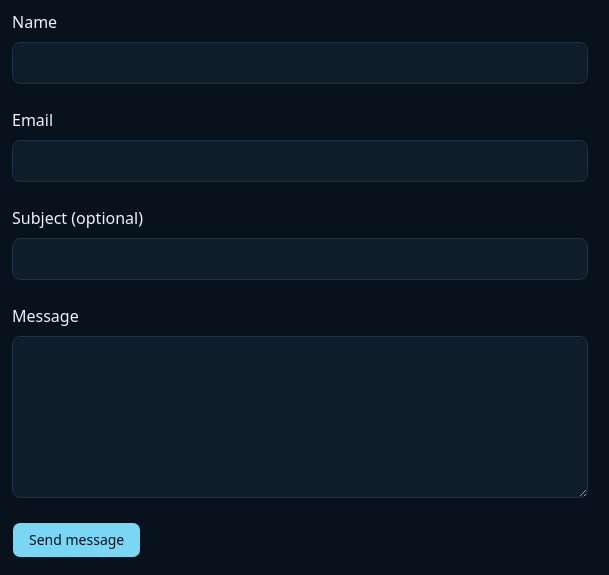
Scenario: ContactForm › blocks an incomplete submission
Click the button "Send message" at (77, 540), box [12, 522, 141, 558]
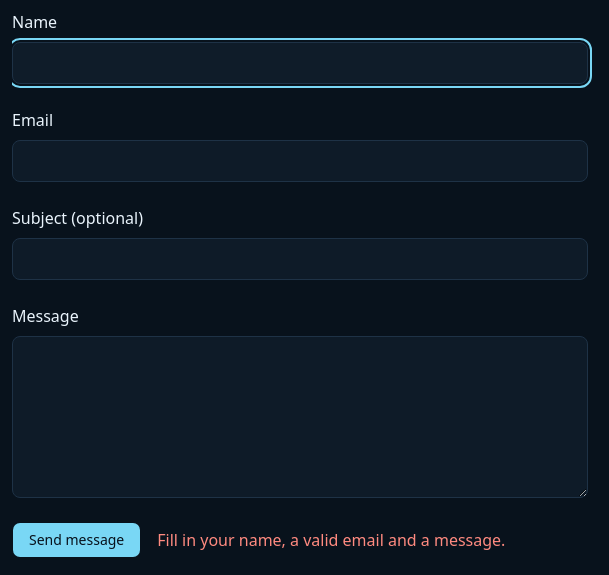
Expected: the message shows "Fill in your name", [157, 529, 505, 551]
